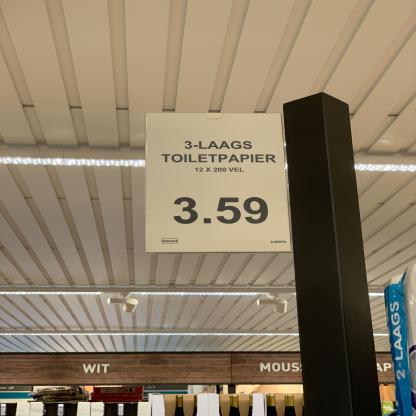prtg: (147, 113, 291, 254)
